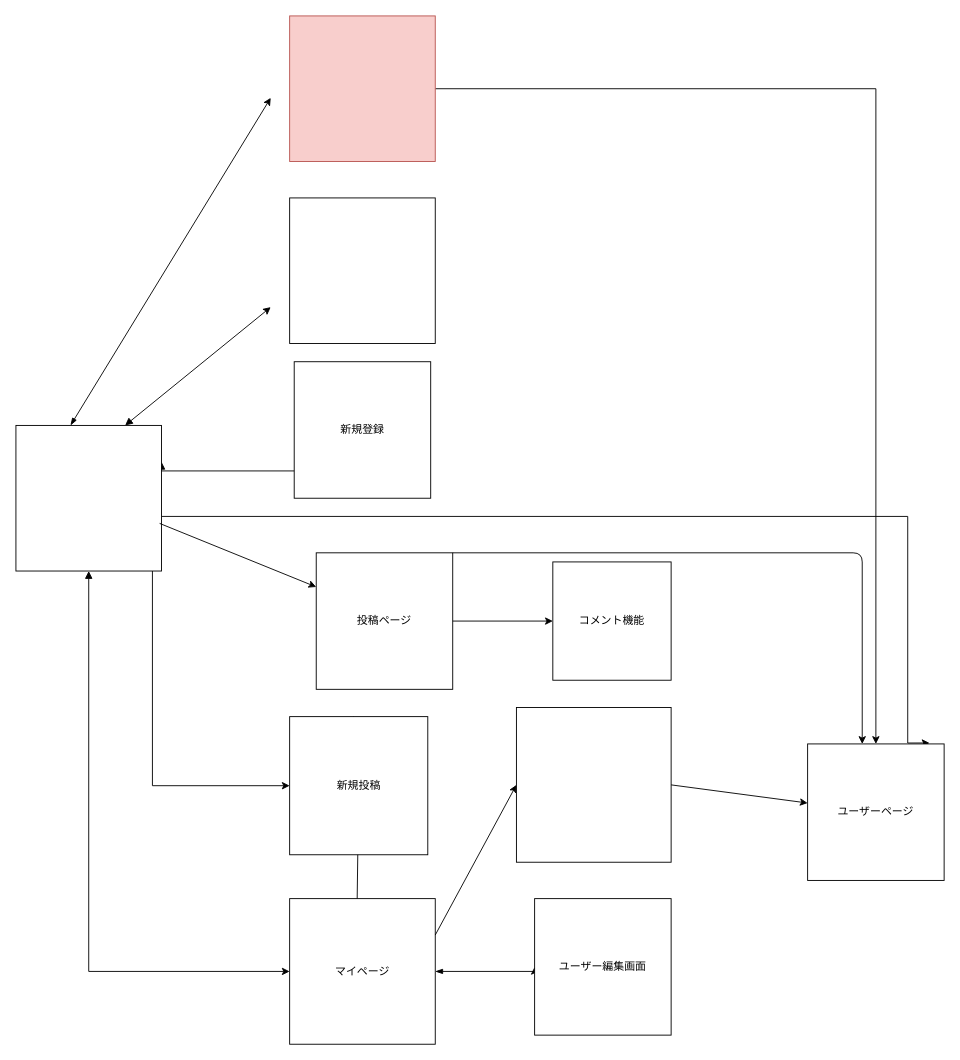
Image size: 960x1060. Some labels were removed from this diagram. Each missing label, with the centre of its shape:
TOP: the point at 88,498
フォロー画面: the point at 593,784
ランキング表示: the point at 362,88
ログインページ: the point at 362,270
